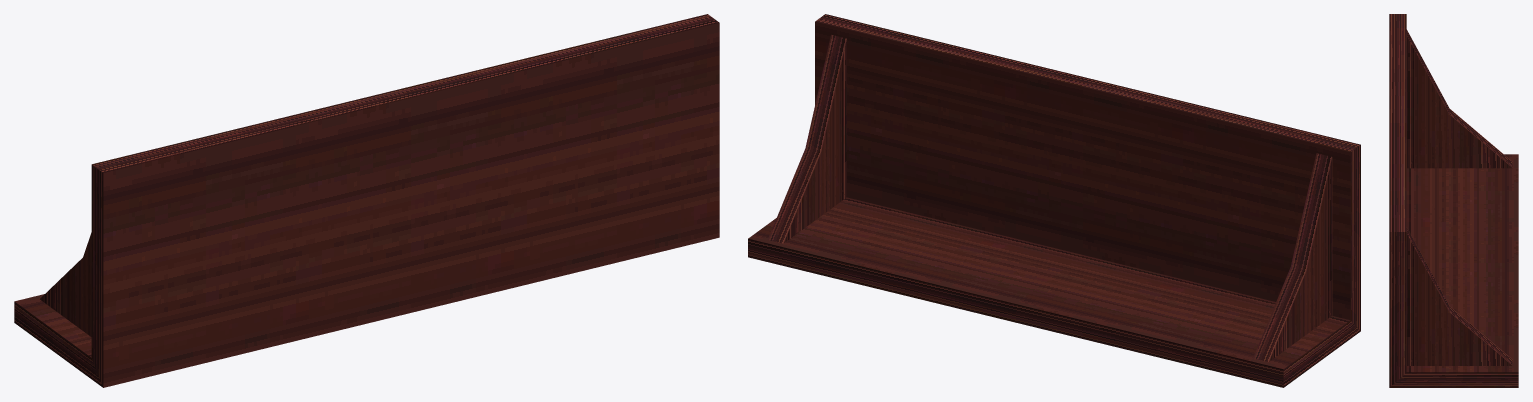
Rendered from shelf_mantle_short.fbx.
3 views of the same model, side by side, from view 1: azimuth 30°, elevation 25°; view 2: azimuth 150°, elevation 25°; view 3: azimuth 270°, elevation 25° (orthographic). The views are drawn at different scales.
Parts seen in each view (by area): view 1: mesh_0; view 2: mesh_0; view 3: mesh_0.
Part boxes in pixels (box(x1,y1,x2,y2)): mesh_0: box(14, 14, 719, 387); mesh_0: box(748, 14, 1360, 387); mesh_0: box(1389, 14, 1518, 387).
Bounding box in the file's own units: 60 × 20 × 15.
Materials: 1 (1 with a texture image).
